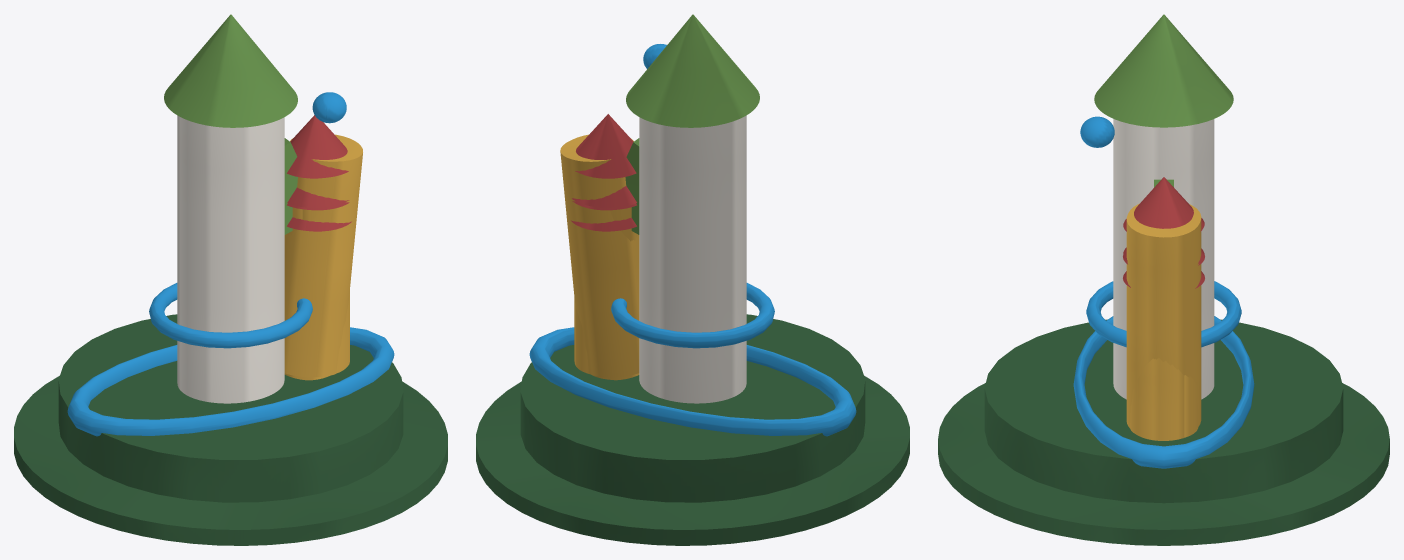
File: 0555_岩石矿物图鉴_珍珠.glb
3 views of the same model, side by side, from view 1: azimuth 30°, elevation 25°; view 2: azimuth 150°, elevation 25°; view 3: azimuth 270°, elevation 25° (orthographic).
Parts seen in each view (by area): view 1: card_0555; view 2: card_0555; view 3: card_0555.
Boxes of the visible parts, box(x1,y1,x2,y2) form: card_0555: box(14, 14, 447, 545); card_0555: box(476, 14, 909, 545); card_0555: box(938, 14, 1389, 545).
Bounding box in the file's own units: 0.8887 × 1 × 0.9291.
